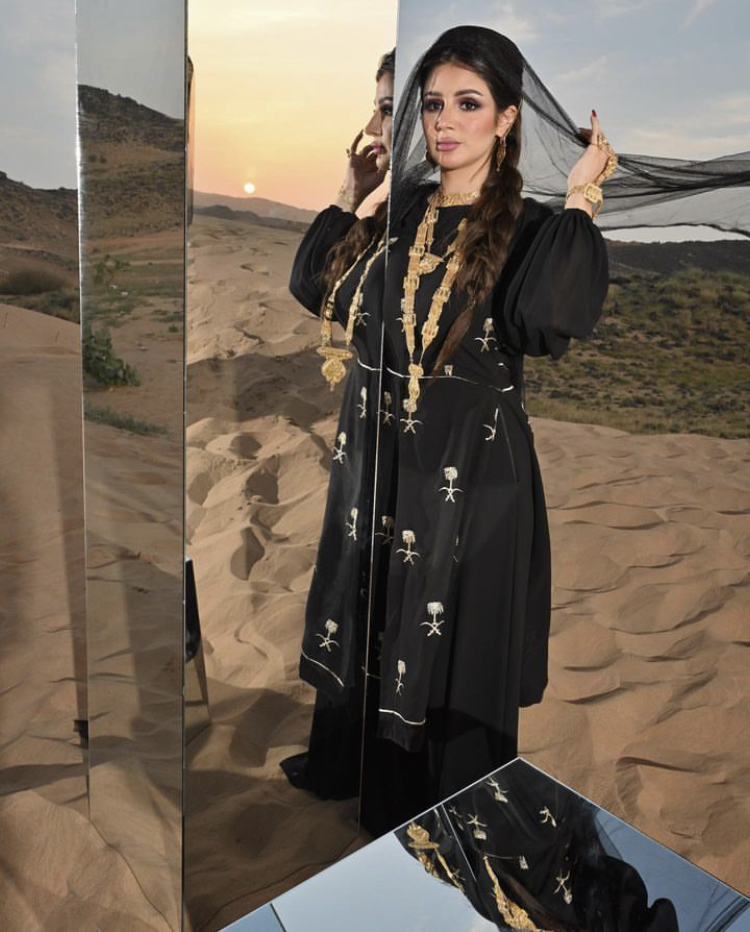Saudi_Founding_Day: (280, 20, 750, 844)
